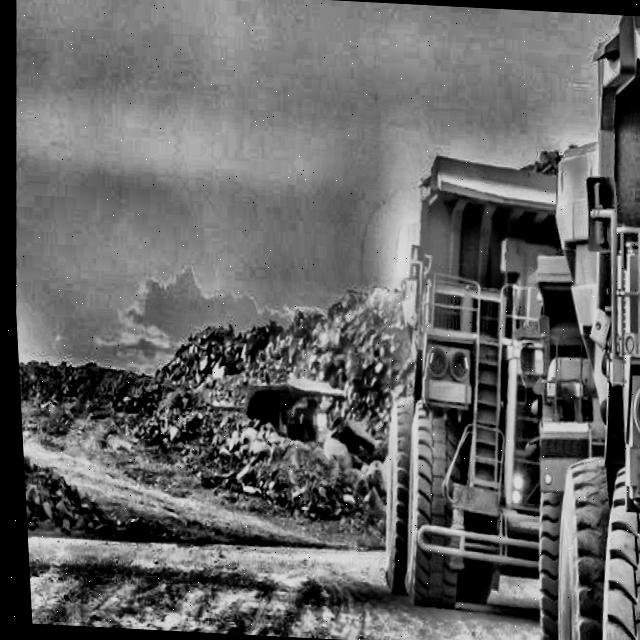dump_truck: (324, 118, 640, 640), (476, 9, 640, 640)
